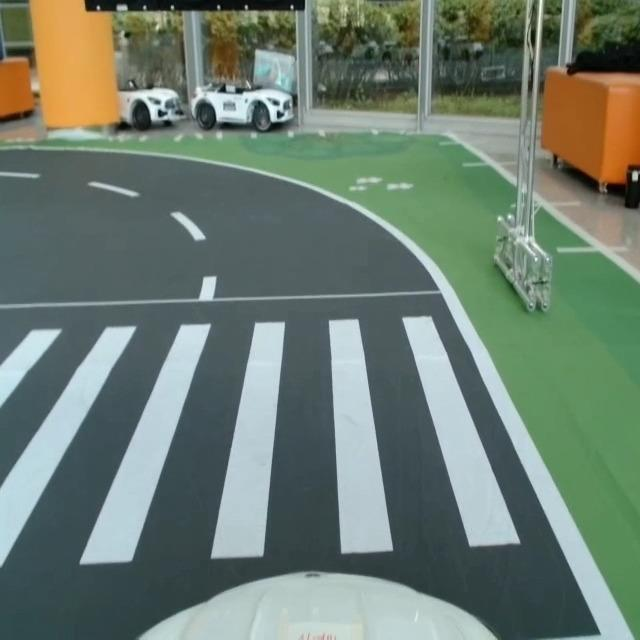traffic-light: (85, 0, 312, 18)
